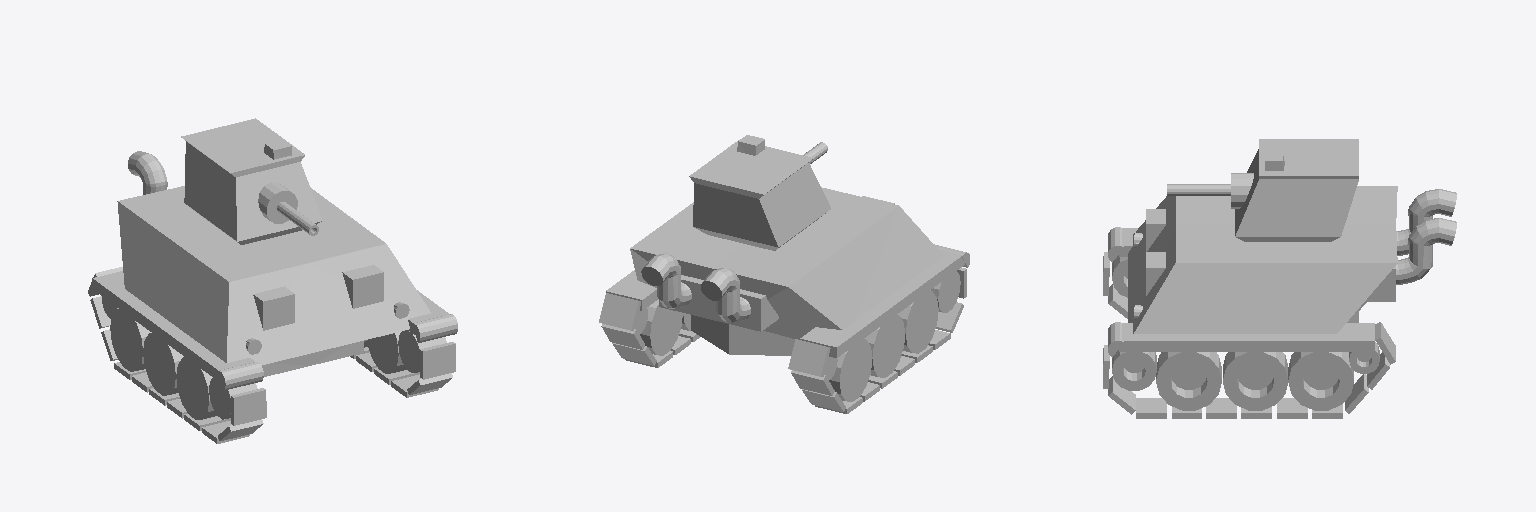
The model's file is my_tank.obj.
3 views of the same model, side by side, from view 1: azimuth 30°, elevation 25°; view 2: azimuth 150°, elevation 25°; view 3: azimuth 270°, elevation 25° (orthographic).
Parts seen in each view (by area): view 1: Cube, Cube.006, Cube.005, Cylinder.019_Cylinder.020, Cylinder.018_Cylinder.019, Cylinder.020_Cylinder.021, Cube.001, Cube.002, Cylinder.002_Cylinder.003, Cube.019, Cube.040, Cylinder.013_Cylinder.014 (+4 smaller); view 2: Cube, Cube.006, Cube.005, Cylinder.020_Cylinder.021, Cylinder.003_Cylinder.004, Cylinder.002_Cylinder.003, Cylinder.018_Cylinder.019, Cylinder.019_Cylinder.020, Cylinder.011_Cylinder.012, Cube.021, Cube.038, Cube.004 (+5 smaller); view 3: Cube, Cube.006, Cube.004, Cylinder.013_Cylinder.014, Cylinder.012_Cylinder.013, Cylinder.011_Cylinder.012, Cylinder.003_Cylinder.004, Cylinder.002_Cylinder.003, Cylinder.015_Cylinder.016, Cube.029, Cylinder.014_Cylinder.015, Cube.002 (+5 smaller).
Boxes of the visible parts, x1=… form: Cube: x1=117, y1=186, x2=430, y2=376; Cube.006: x1=181, y1=118, x2=322, y2=244; Cube.005: x1=92, y1=271, x2=254, y2=382; Cylinder.019_Cylinder.020: x1=143, y1=333, x2=183, y2=395; Cylinder.018_Cylinder.019: x1=176, y1=357, x2=216, y2=419; Cylinder.020_Cylinder.021: x1=110, y1=309, x2=151, y2=371; Cube.001: x1=253, y1=286, x2=294, y2=330; Cube.002: x1=342, y1=265, x2=383, y2=308; Cylinder.002_Cylinder.003: x1=128, y1=151, x2=167, y2=194; Cube.019: x1=420, y1=342, x2=455, y2=379; Cube.040: x1=231, y1=388, x2=266, y2=425; Cylinder.013_Cylinder.014: x1=367, y1=331, x2=406, y2=373; Cube: x1=630, y1=187, x2=943, y2=355; Cube.006: x1=659, y1=140, x2=830, y2=331; Cube.005: x1=800, y1=249, x2=964, y2=357; Cylinder.020_Cylinder.021: x1=829, y1=339, x2=872, y2=401; Cylinder.003_Cylinder.004: x1=641, y1=253, x2=691, y2=308; Cylinder.002_Cylinder.003: x1=701, y1=268, x2=750, y2=322; Cylinder.018_Cylinder.019: x1=897, y1=290, x2=938, y2=353; Cylinder.019_Cylinder.020: x1=864, y1=315, x2=904, y2=377; Cylinder.011_Cylinder.012: x1=640, y1=299, x2=682, y2=355; Cube.021: x1=599, y1=293, x2=640, y2=330; Cube.038: x1=788, y1=339, x2=830, y2=376; Cube.004: x1=606, y1=270, x2=657, y2=310; Cube: x1=1128, y1=186, x2=1397, y2=333; Cube.006: x1=1167, y1=139, x2=1395, y2=301; Cube.004: x1=1119, y1=323, x2=1374, y2=351; Cylinder.013_Cylinder.014: x1=1156, y1=352, x2=1221, y2=410; Cylinder.012_Cylinder.013: x1=1223, y1=352, x2=1287, y2=410; Cylinder.011_Cylinder.012: x1=1288, y1=352, x2=1353, y2=410; Cylinder.003_Cylinder.004: x1=1396, y1=218, x2=1456, y2=284; Cylinder.002_Cylinder.003: x1=1396, y1=189, x2=1456, y2=255; Cylinder.015_Cylinder.016: x1=1112, y1=350, x2=1156, y2=390; Cube.029: x1=1136, y1=398, x2=1166, y2=418; Cylinder.014_Cylinder.015: x1=1349, y1=342, x2=1379, y2=373; Cube.002: x1=1146, y1=252, x2=1165, y2=295.
Bounding box in the file's own units: 4.43 × 3.95 × 5.84.